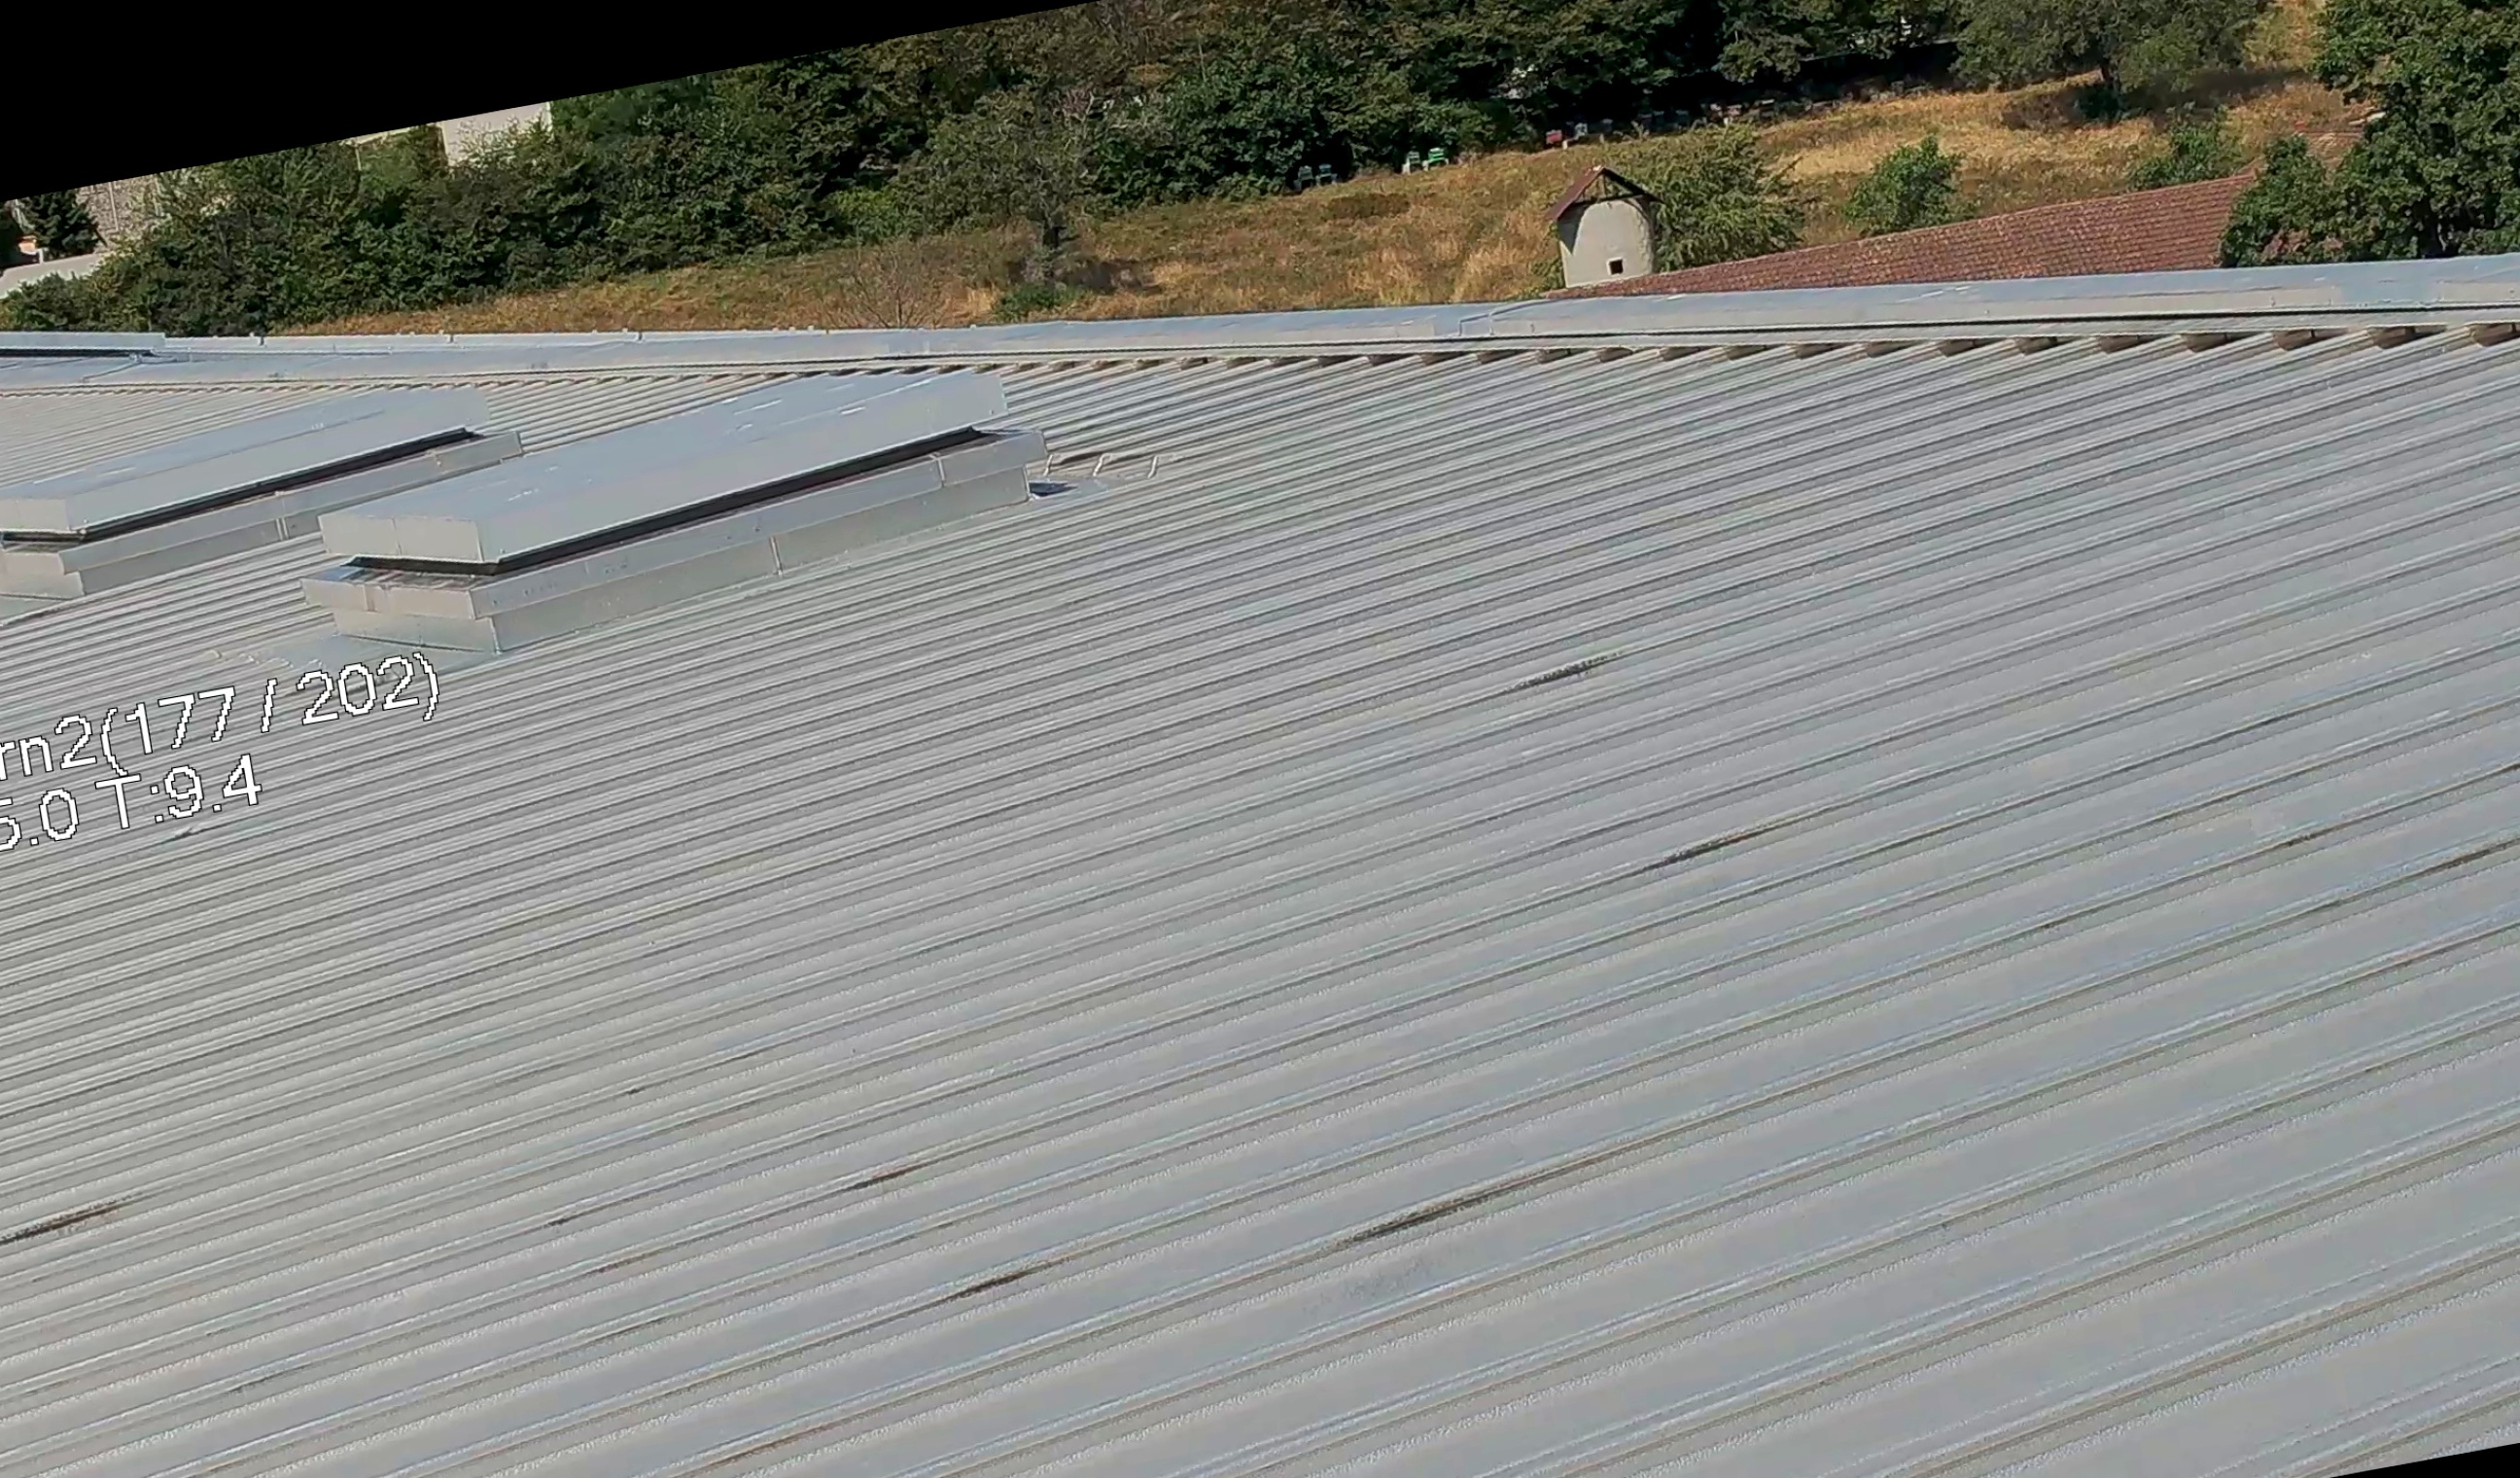Other: (1533, 128, 1690, 313)
